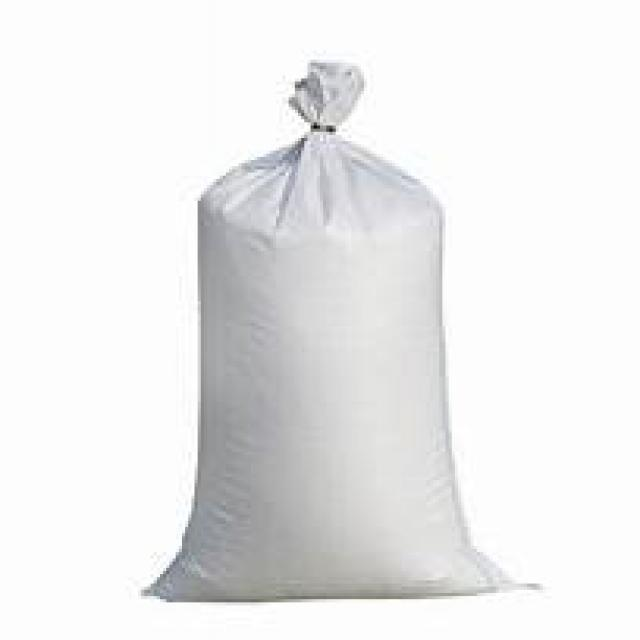gunny_bag: (138, 63, 533, 605)
